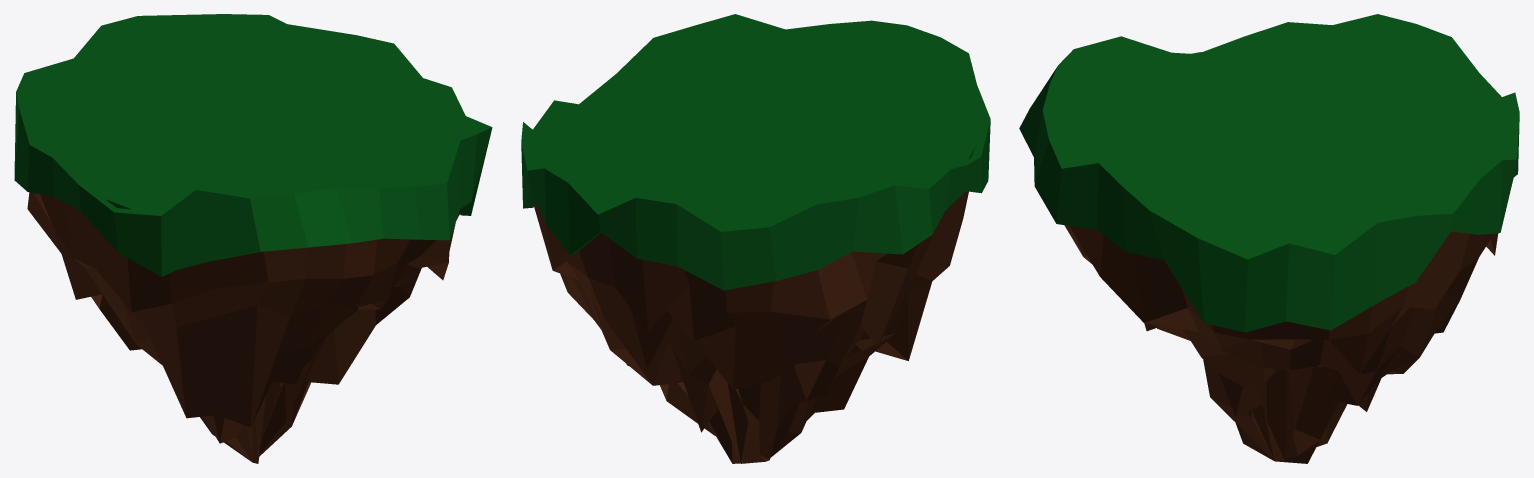
File: Terrain.fbx
3 views of the same model, side by side, from view 1: azimuth 30°, elevation 25°; view 2: azimuth 150°, elevation 25°; view 3: azimuth 270°, elevation 25° (orthographic).
Visible parts, largest first — view 1: Grass; view 2: Grass; view 3: Grass.
Boxes of the visible parts, box(x1,y1,x2,y2) form: Grass: box(14, 14, 492, 463); Grass: box(521, 14, 990, 463); Grass: box(1019, 14, 1519, 463).
Size of the model in its own units: 264 by 229 by 286.
